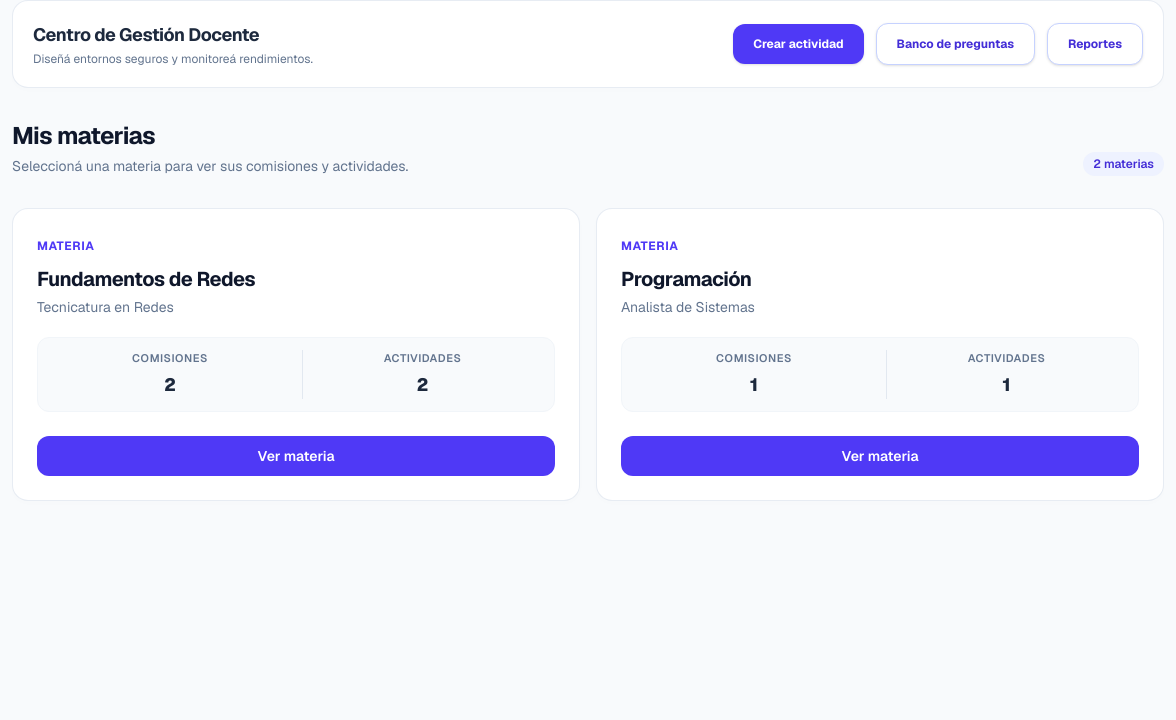
Test case: TeacherEvaluationsExplorer › evita el paso de comisión cuando la materia tiene una sola
Click the button "Ver materia" below "Analista de Sistemas" at point(880, 456), box [621,436,1139,476]
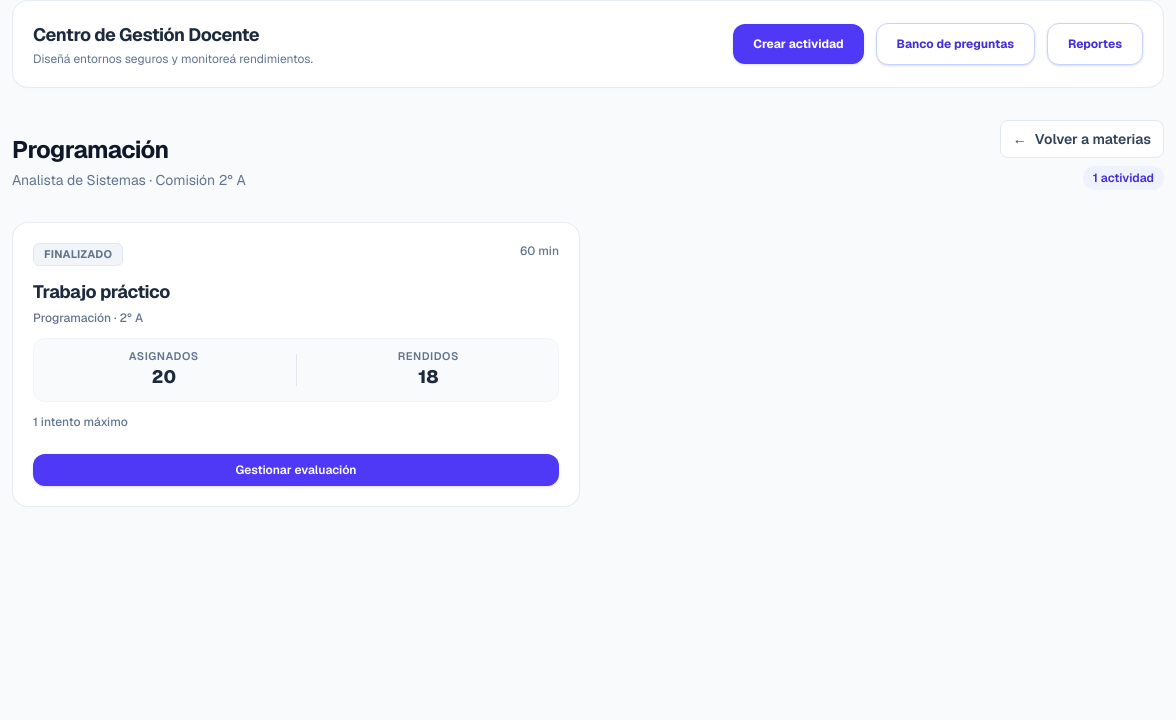
Check: the heading "Trabajo práctico" is shown, box [33,280,170,302]
Check: the text "Analista de Sistemas · Comisión 2° A" is shown, box [12,170,246,190]
Check: the button "← Volver a materias" is shown, box [1000,120,1164,158]
